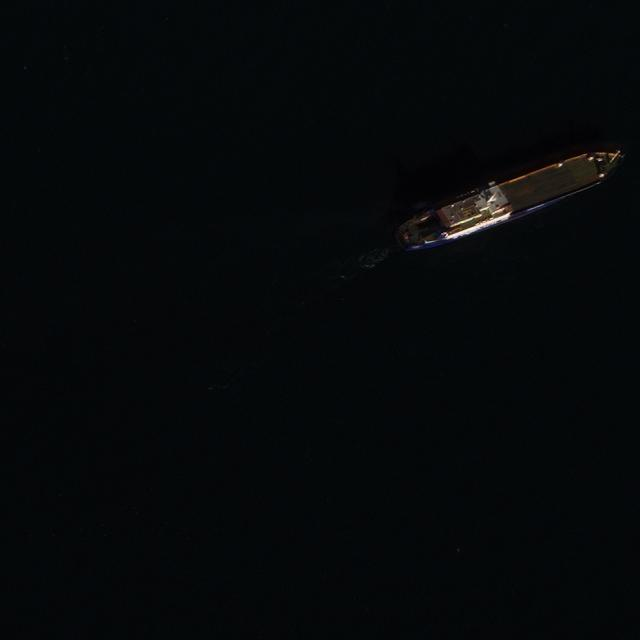Container Ship: (386, 136, 632, 259)
